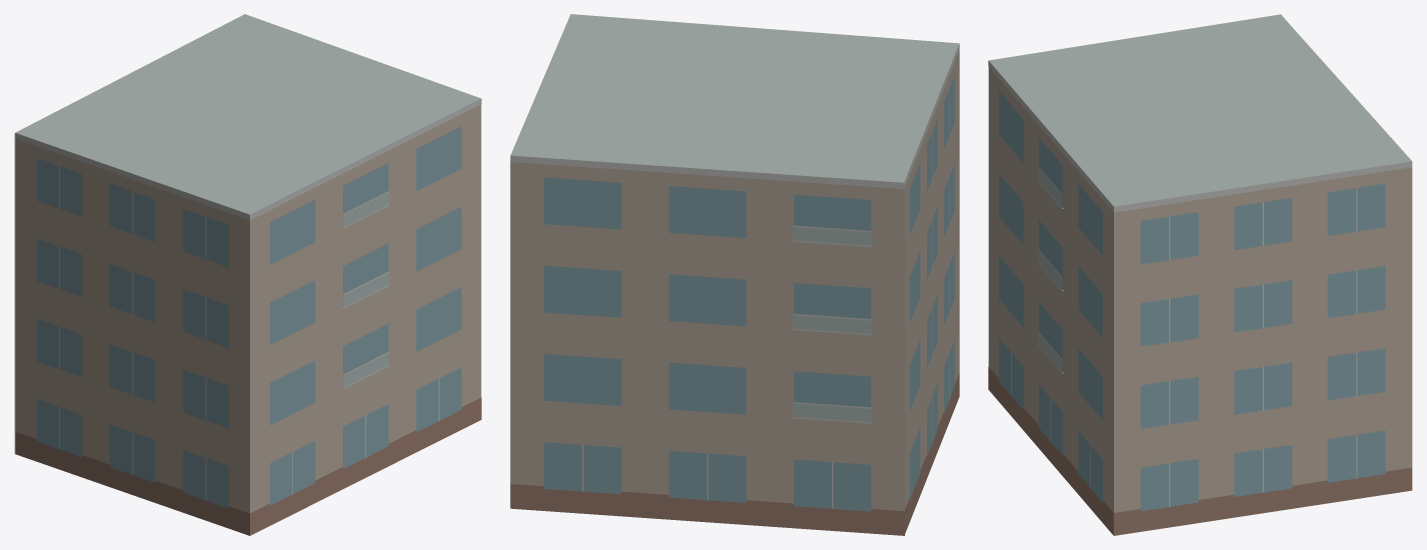
The model's file is survey-upis-32929290.glb.
The picture shows the model from 3 angles, left to right: view 1: azimuth 30°, elevation 25°; view 2: azimuth 150°, elevation 25°; view 3: azimuth 270°, elevation 25°; orthographic projection. The views are drawn at different scales.
Parts seen in each view (by area): view 1: survey-upis-32929290.tmp; view 2: survey-upis-32929290.tmp; view 3: survey-upis-32929290.tmp.
Part boxes in pixels (x1,y1,x2,y2): survey-upis-32929290.tmp: [14, 14, 481, 535]; survey-upis-32929290.tmp: [510, 14, 959, 535]; survey-upis-32929290.tmp: [988, 14, 1412, 535].
Size of the model in its own units: 16.96 by 13.5 by 15.76.
